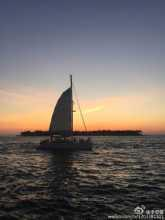fanchuan: (40, 73, 100, 150)
